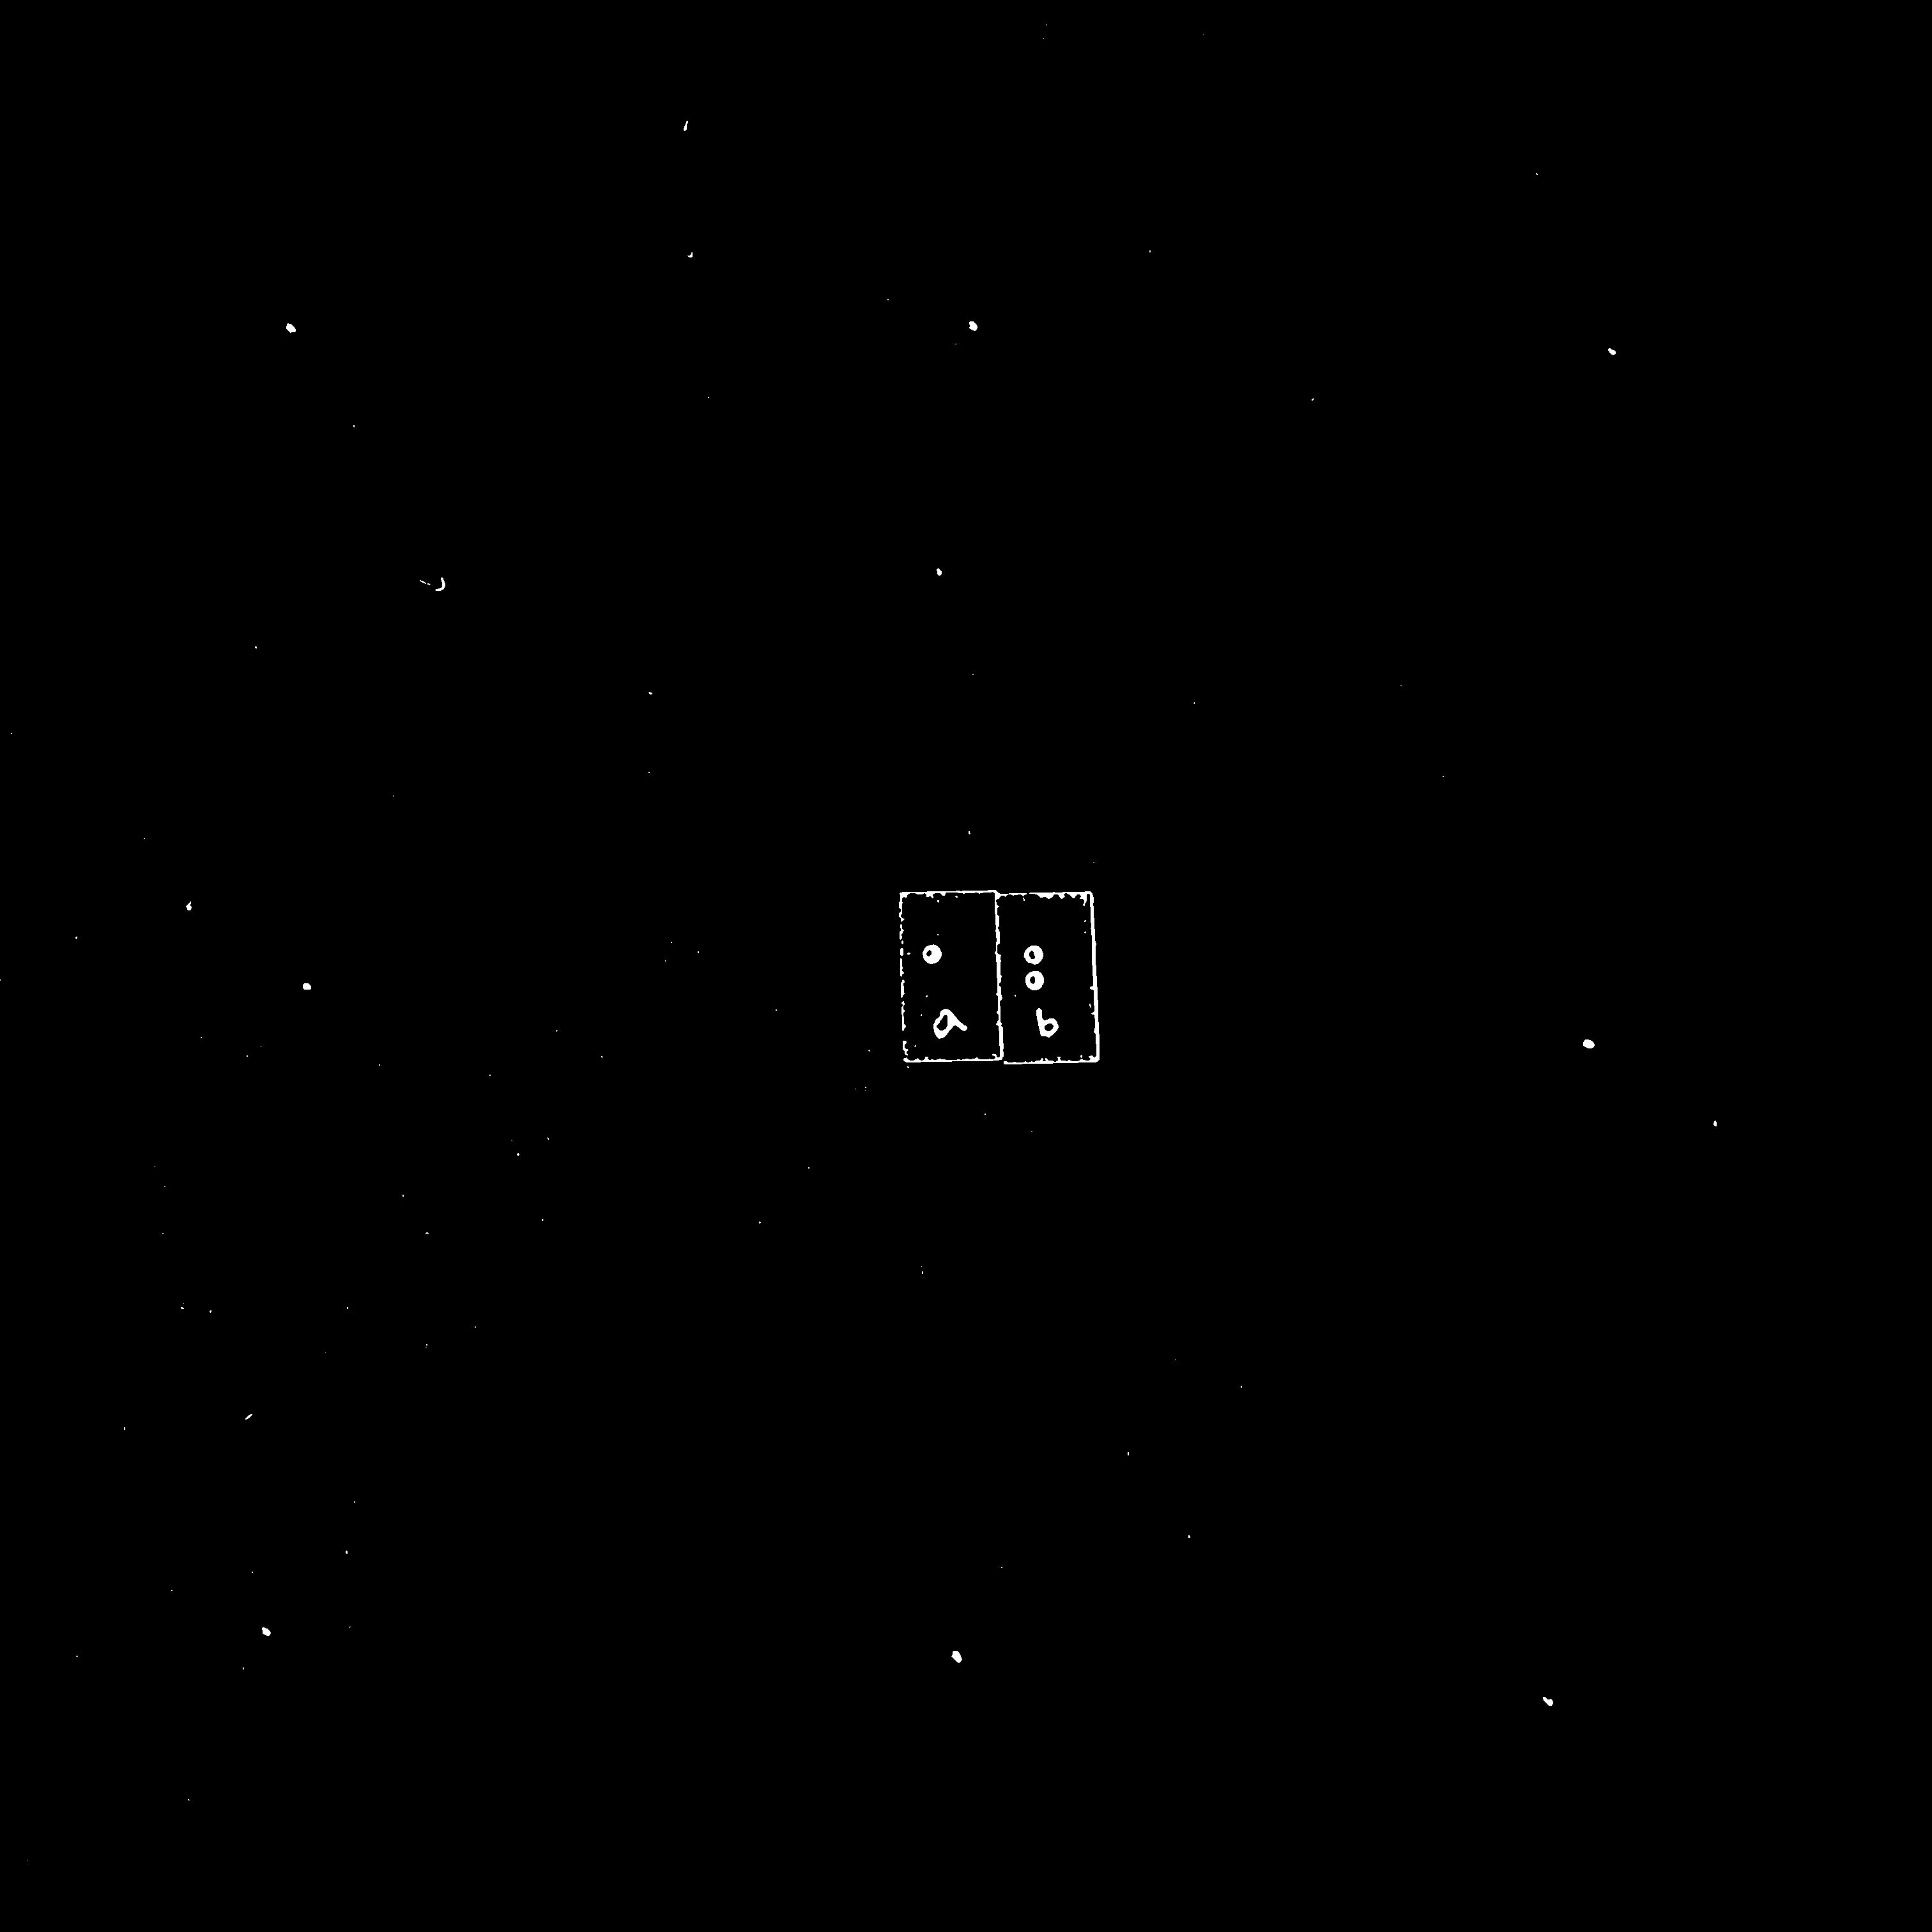a: (916, 930, 975, 1006)
b: (1013, 933, 1082, 1015)
